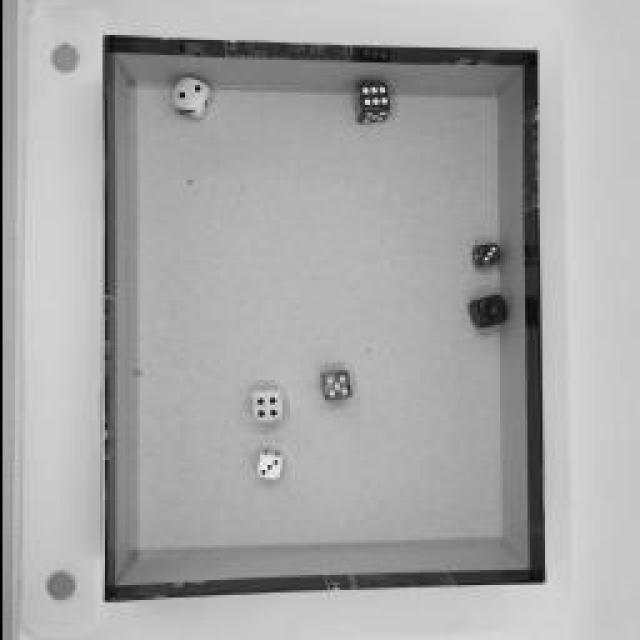dice_1: (463, 285, 505, 335)
dice_2: (164, 78, 211, 120)
dice_3: (250, 450, 285, 485), (470, 242, 498, 268)
dice_4: (248, 390, 280, 425)
dice_5: (320, 369, 350, 401)
dice_6: (352, 81, 388, 124)
